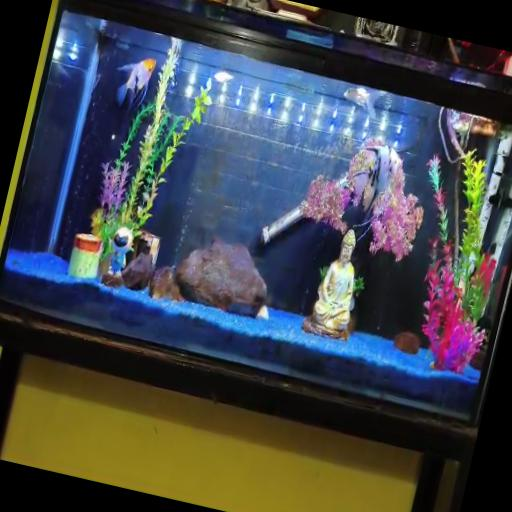Fish: (353, 145, 401, 241), (116, 59, 156, 108), (343, 87, 384, 120), (214, 71, 233, 83)
